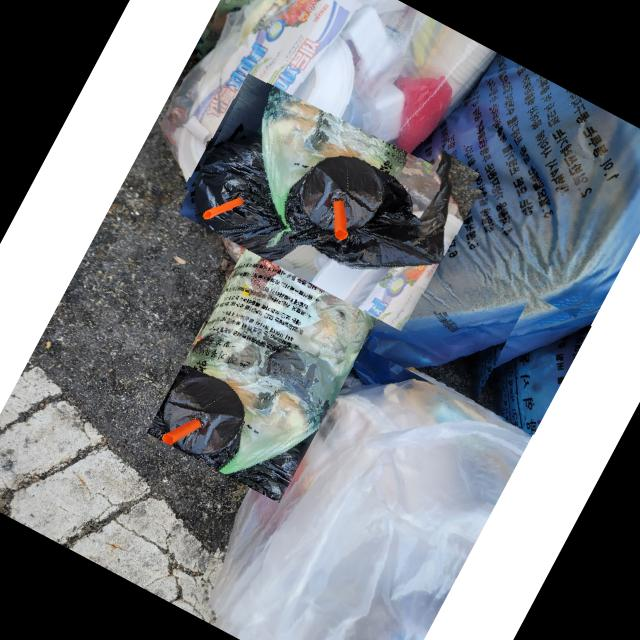general_trashbag: (186, 219, 408, 472), (195, 131, 450, 266)
other_trashbag: (333, 51, 640, 372), (207, 380, 528, 640), (162, 0, 495, 196), (489, 324, 589, 433)
